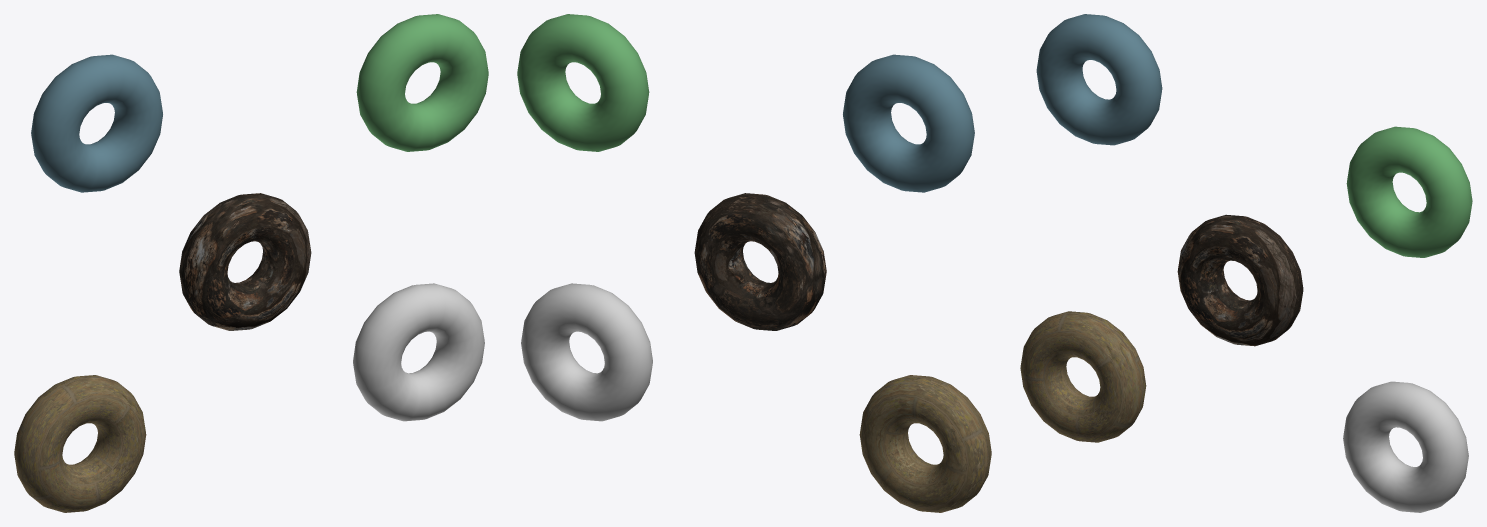
The model's file is fiveO.fbx.
The picture shows the model from 3 angles, left to right: view 1: azimuth 30°, elevation 25°; view 2: azimuth 150°, elevation 25°; view 3: azimuth 330°, elevation 25°; orthographic projection. The views are drawn at different scales.
Visible parts, largest first — view 1: pTorus7; view 2: pTorus7; view 3: pTorus7.
Boxes of the visible parts, box(x1,y1,x2,y2) form: pTorus7: box(14, 14, 488, 512); pTorus7: box(517, 14, 991, 512); pTorus7: box(1020, 14, 1472, 512).
Size of the model in its own units: 11.16 by 10.2 by 1.
